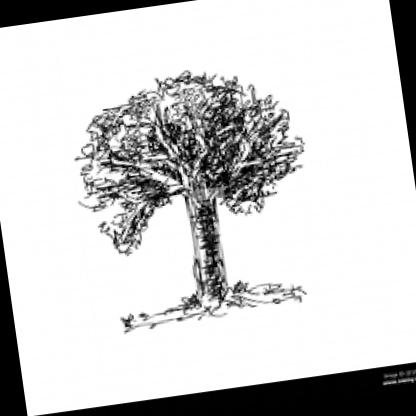crown_dizzy: (66, 58, 314, 258)
root_none: (144, 276, 286, 331)
trunk_bark: (184, 206, 230, 288)
